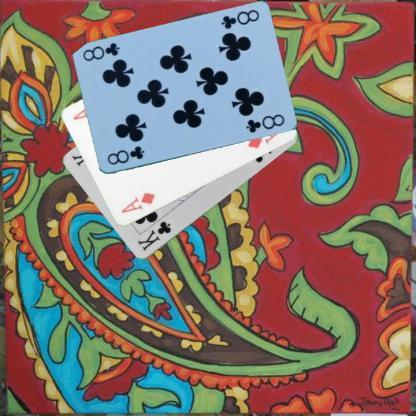8c: (218, 7, 260, 31), (104, 144, 146, 166)
Ad: (118, 190, 156, 215)
Kc: (134, 219, 172, 252)
